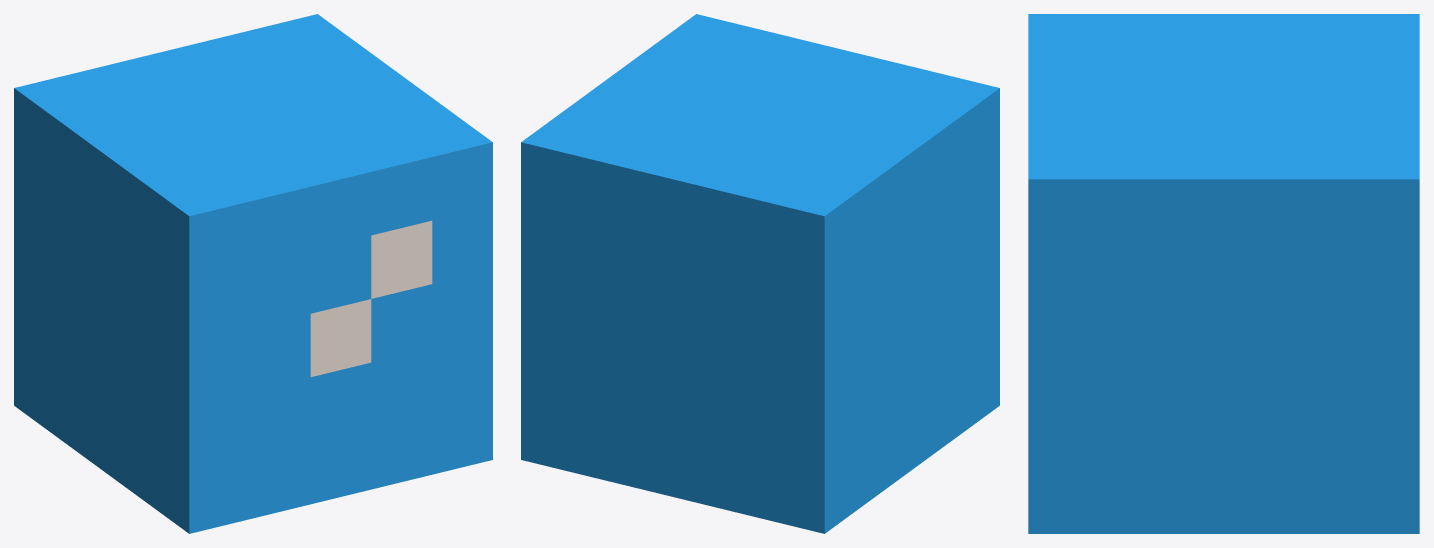
File: blob_b_idle_0.obj
3 renders of one model, left to right at view 1: azimuth 30°, elevation 25°; view 2: azimuth 150°, elevation 25°; view 3: azimuth 270°, elevation 25°, orthographic. The views are drawn at different scales.
Size of the model in its own units: 0.5 by 0.5 by 0.5.
1 material, 1 textured.
